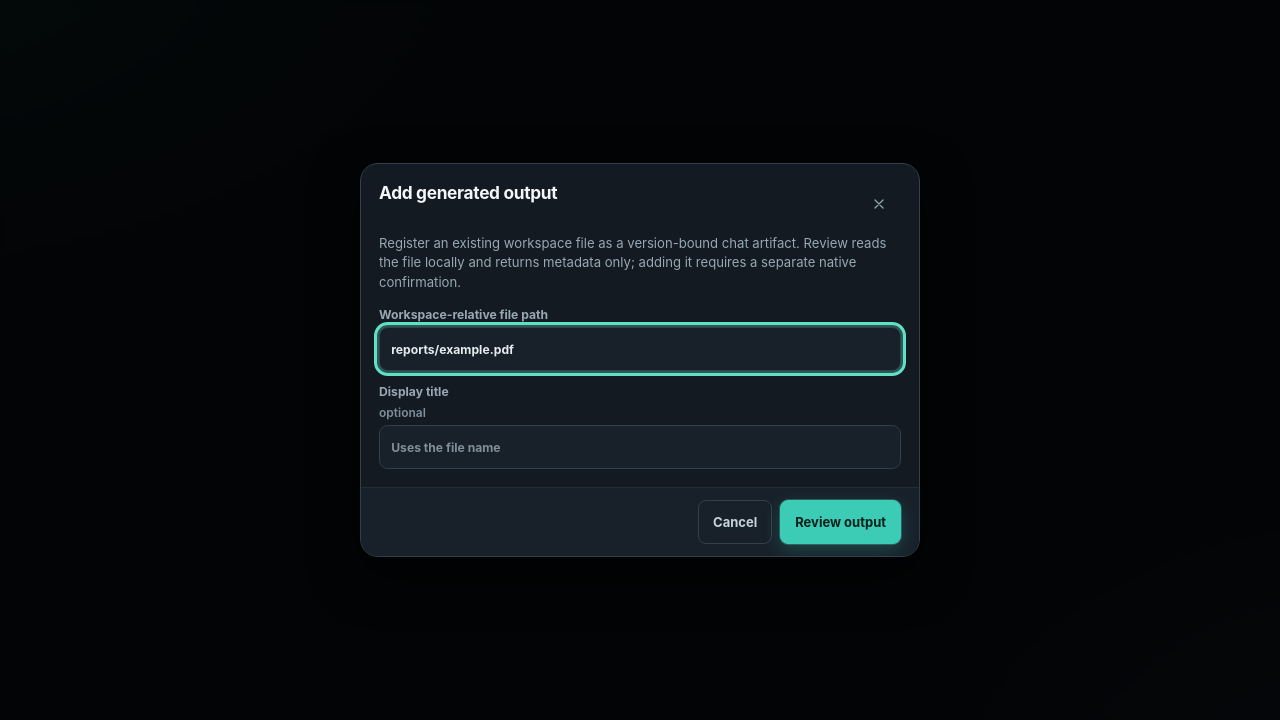
Test: AgentArtifactCaptureDialog › clears a stale review and requires reviewing the changed file again
Click the button "Review output".
click(841, 522)  # box x1=780 y1=500 x2=901 y2=544
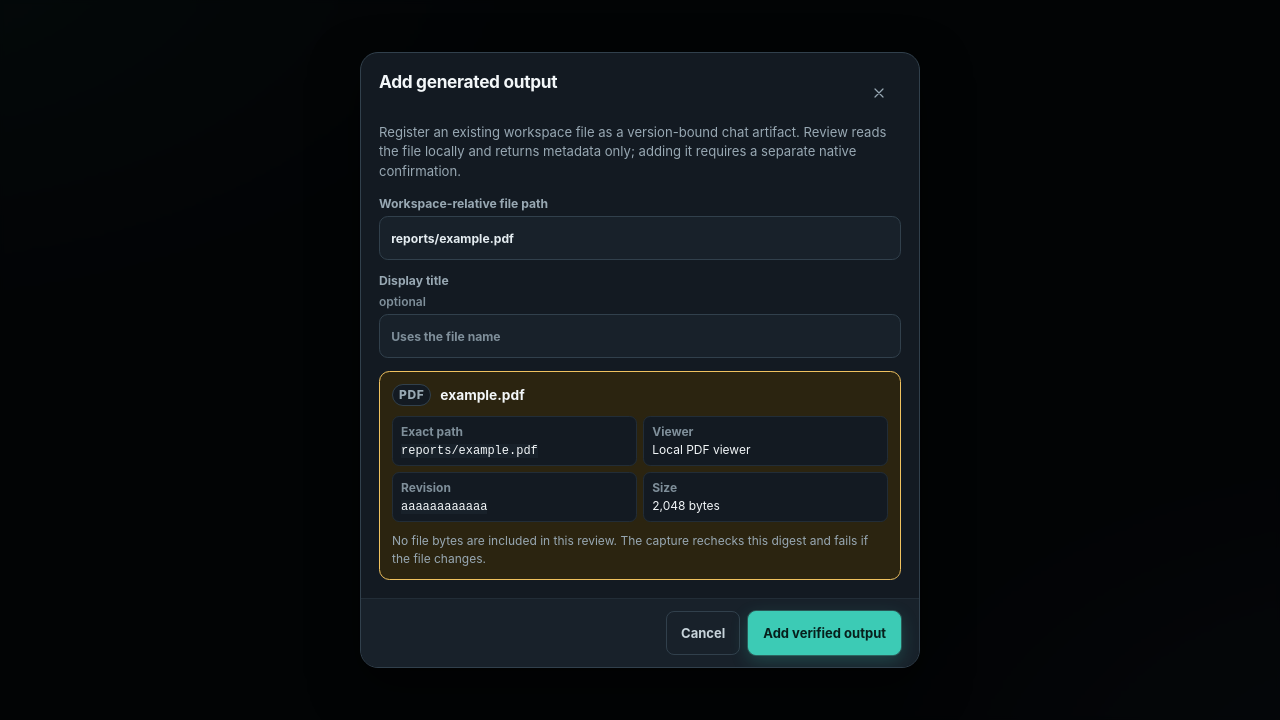
Expected: the button "Add verified output" is shown
Click the button "Add verified output".
click(825, 633)  # box x1=748 y1=611 x2=901 y2=655
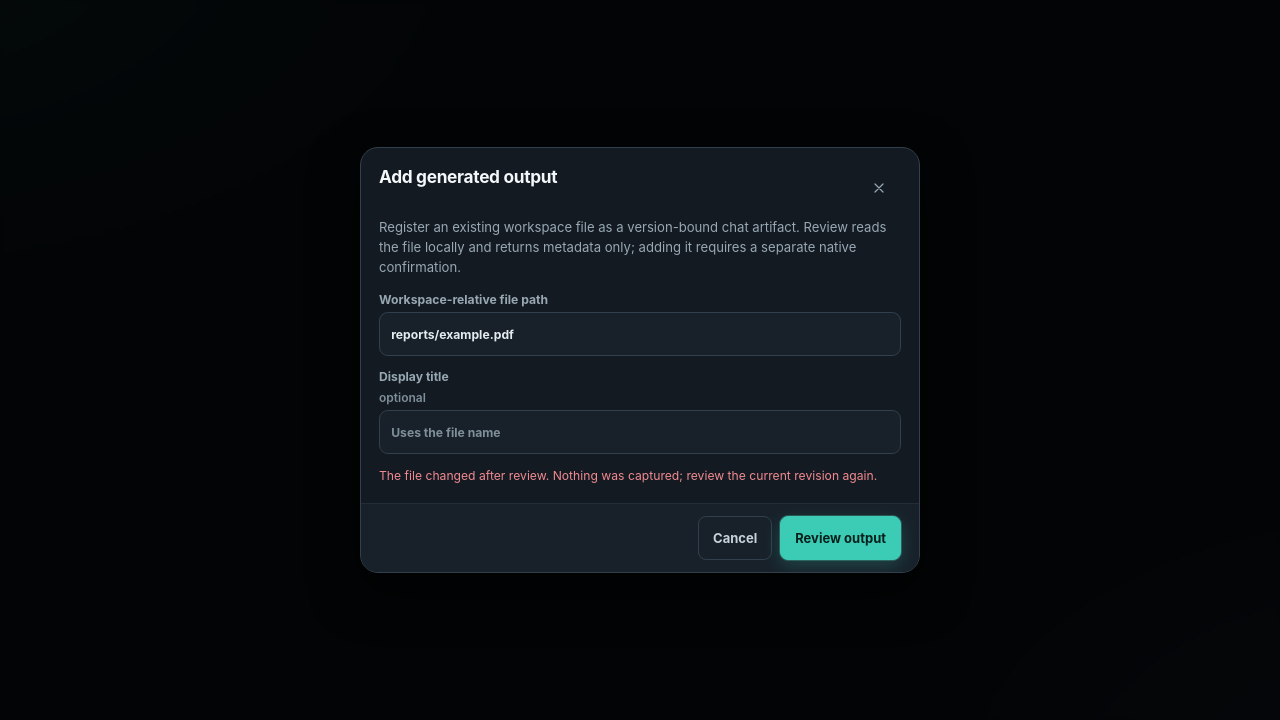
Expected: the button "Review output" is enabled, x1=780 y1=516 x2=901 y2=560
Expected: the message shows "The file changed after review. Nothing was captured", x1=379 y1=468 x2=877 y2=483
